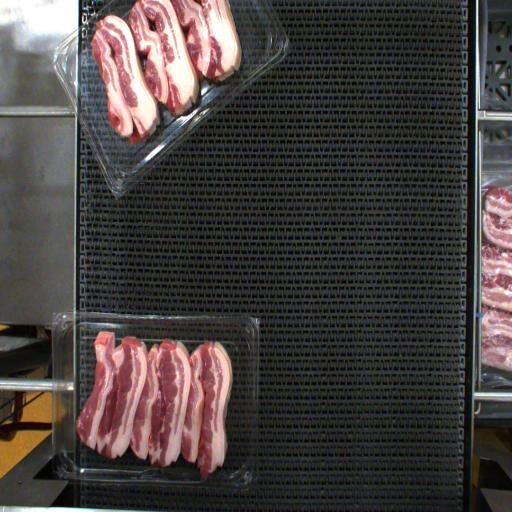twisted-meat: (79, 333, 119, 453)
